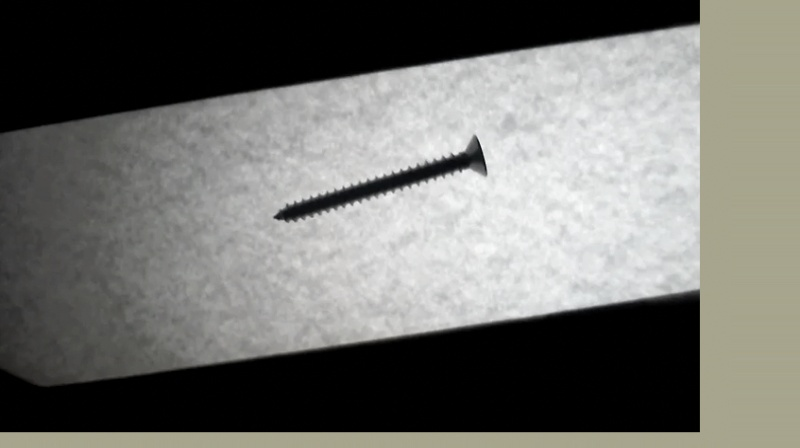S002: (266, 129, 490, 223)
